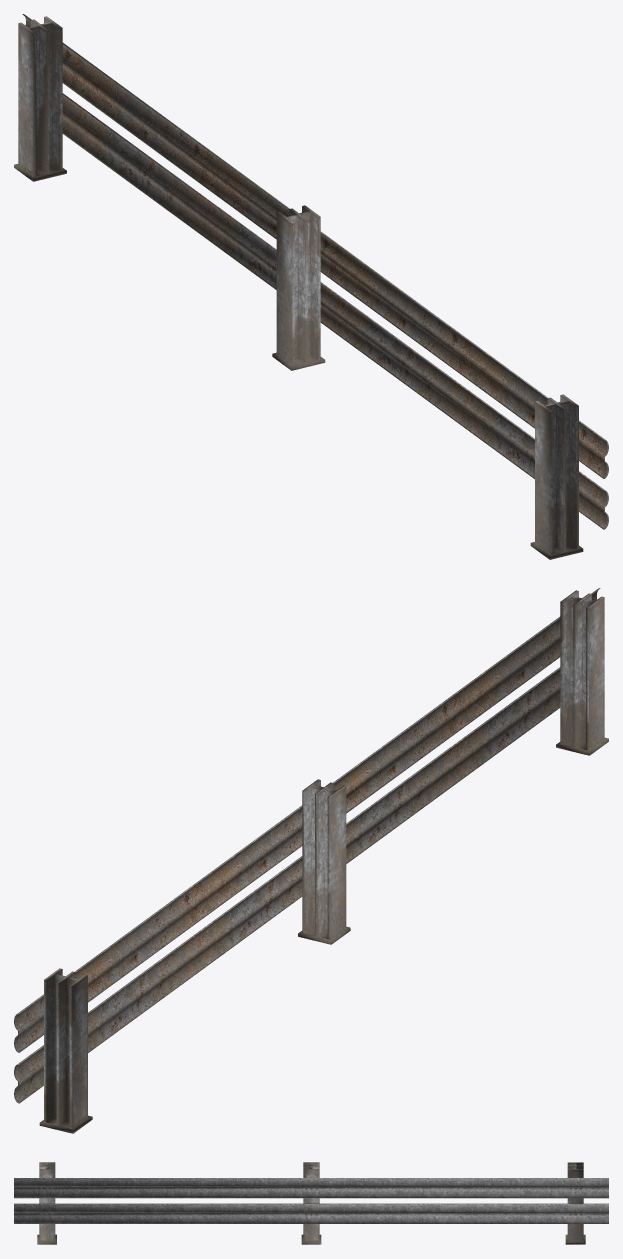
File: road_traffic_barrier.glb
3 renders of one model, top to bottom at view 1: azimuth 30°, elevation 25°; view 2: azimuth 150°, elevation 25°; view 3: azimuth 270°, elevation 25°, orthographic. The views are drawn at different scales.
Parts seen in each view (by area): view 1: Ograda, Stubovi; view 2: Ograda, Stubovi; view 3: Ograda, Stubovi, Srafovi.
Boxes of the visible parts, bbox=[...] form: Ograda: bbox=[22, 14, 608, 529]; Stubovi: bbox=[14, 16, 583, 559]; Ograda: bbox=[14, 588, 600, 1103]; Stubovi: bbox=[39, 590, 608, 1133]; Ograda: bbox=[14, 1178, 608, 1223]; Stubovi: bbox=[37, 1162, 585, 1244]; Srafovi: bbox=[40, 1187, 582, 1215].
Size of the model in its own units: 0.3248 by 1.24 by 9.01.
4 materials, 4 textured.
